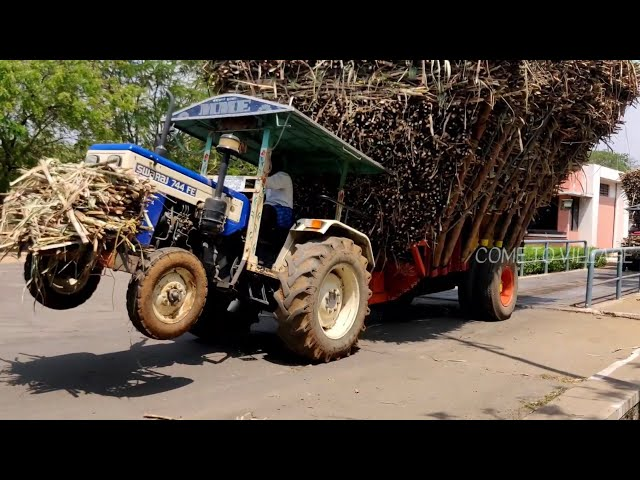wheel: (292, 241, 369, 355), (139, 251, 205, 335), (483, 266, 519, 320)
